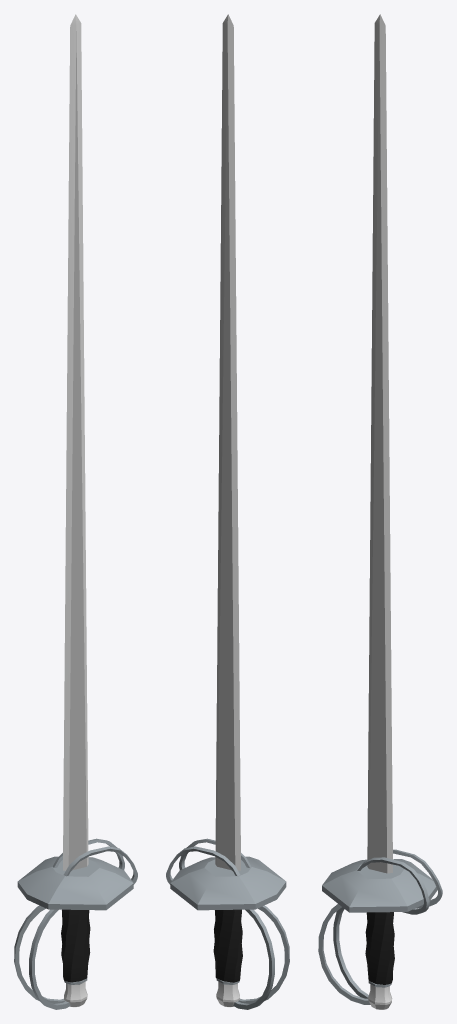
File: SM_Sword13_Rapier_3Silver.fbx
3 views of the same model, side by side, from view 1: azimuth 30°, elevation 25°; view 2: azimuth 150°, elevation 25°; view 3: azimuth 330°, elevation 25° (orthographic).
Parts seen in each view (by area): view 1: Cube.353, Cylinder.450, Cube.354, Cylinder.452, Sphere.134; view 2: Cube.353, Cylinder.450, Cube.354, Cylinder.452, Sphere.134; view 3: Cube.353, Cylinder.450, Cube.354, Cylinder.452, Sphere.134.
Part boxes in pixels (x1=…): Cube.353: x1=63, y1=14, x2=88, y2=870; Cylinder.450: x1=17, y1=856, x2=133, y2=910; Cube.354: x1=14, y1=838, x2=137, y2=1009; Cylinder.452: x1=61, y1=909, x2=90, y2=982; Sphere.134: x1=64, y1=978, x2=87, y2=1007; Cube.353: x1=215, y1=14, x2=240, y2=870; Cylinder.450: x1=170, y1=856, x2=286, y2=910; Cube.354: x1=166, y1=838, x2=289, y2=1009; Cylinder.452: x1=213, y1=909, x2=242, y2=982; Sphere.134: x1=216, y1=978, x2=239, y2=1007; Cube.353: x1=367, y1=14, x2=392, y2=873; Cylinder.450: x1=322, y1=859, x2=437, y2=912; Cube.354: x1=318, y1=849, x2=442, y2=1004; Cylinder.452: x1=365, y1=912, x2=394, y2=984; Sphere.134: x1=368, y1=981, x2=392, y2=1009.
Bounding box in the file's own units: 0.1179 × 1.03 × 0.1152.
